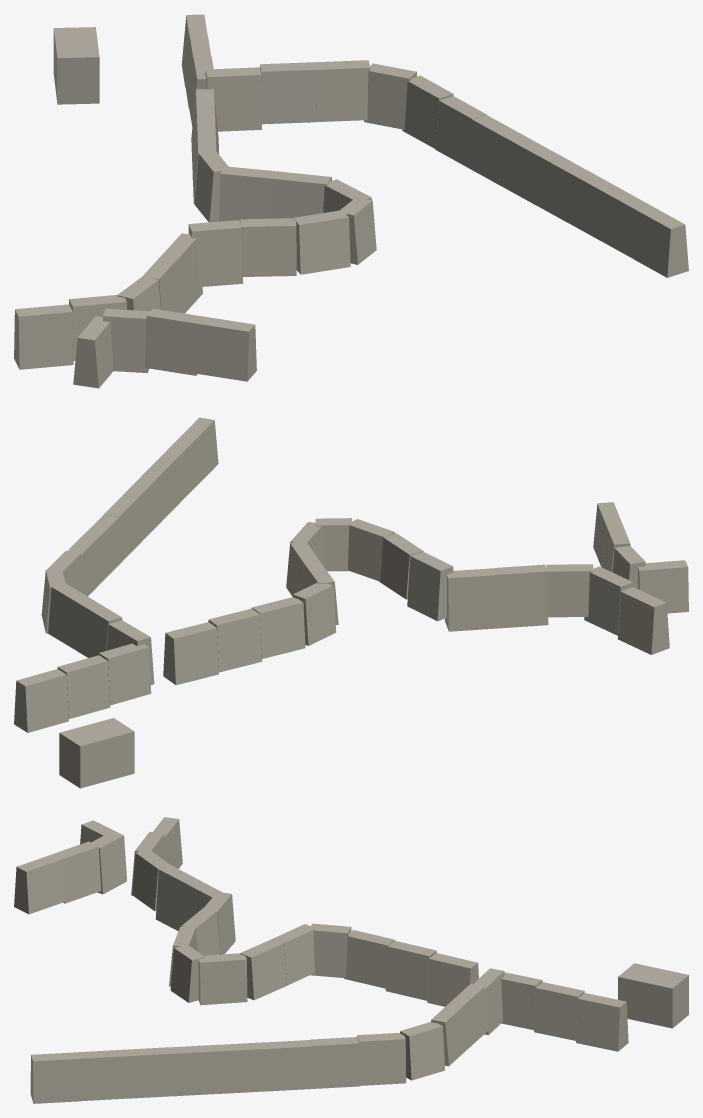
The model's file is bormla_64_31_far.glb.
3 views of the same model, one above another, from view 1: azimuth 30°, elevation 25°; view 2: azimuth 150°, elevation 25°; view 3: azimuth 270°, elevation 25° (orthographic). The views are drawn at different scales.
Visible parts, largest first — view 1: geometry_0; view 2: geometry_0; view 3: geometry_0.
Boxes of the visible parts, bbox=[...] form: geometry_0: bbox=[14, 14, 688, 388]; geometry_0: bbox=[14, 417, 688, 788]; geometry_0: bbox=[14, 817, 688, 1103].
Bounding box in the file's own units: 151 × 18.96 × 173.
